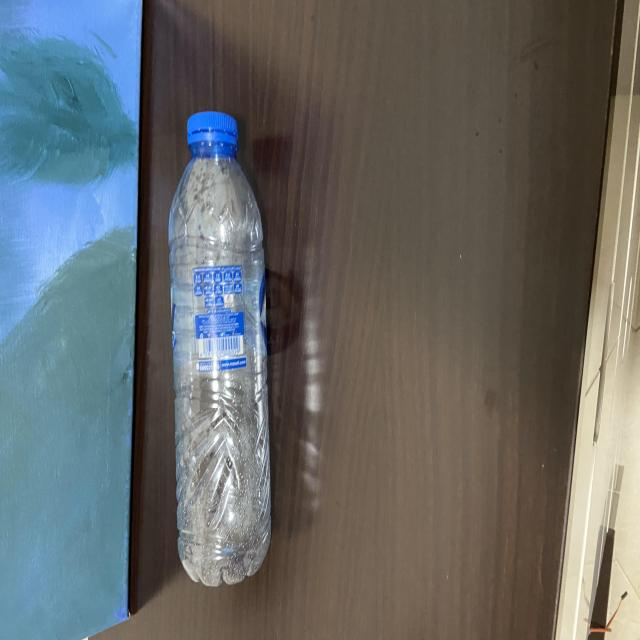plastic: (167, 104, 275, 586)
